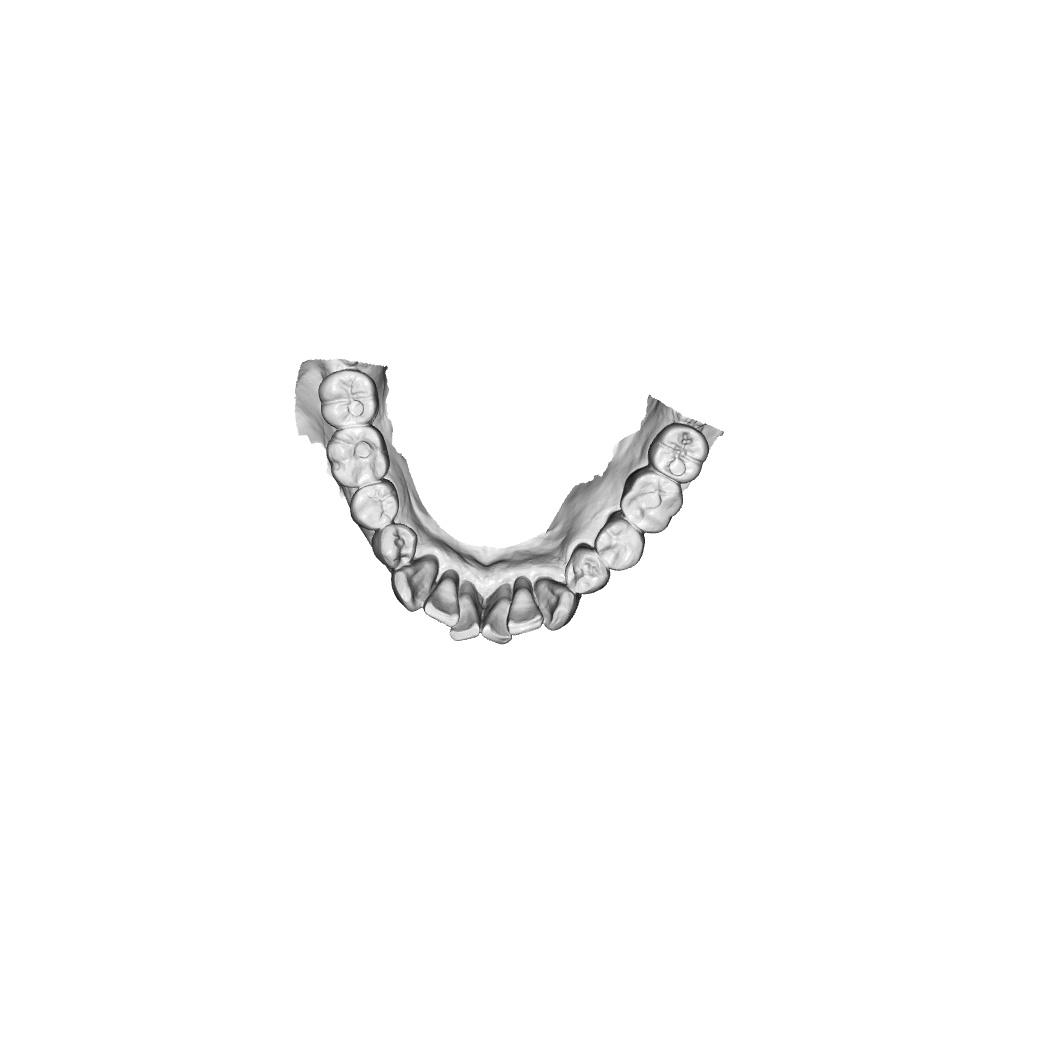canine: (390, 557, 439, 613), (534, 577, 582, 632)
incisor: (422, 577, 461, 629), (507, 586, 544, 638), (481, 594, 513, 646), (449, 591, 481, 642)
molar: (619, 466, 684, 536), (324, 424, 391, 489), (645, 420, 710, 485), (317, 368, 380, 429)
premolar: (593, 509, 645, 572), (348, 478, 400, 531), (563, 542, 611, 595), (371, 522, 419, 571)
